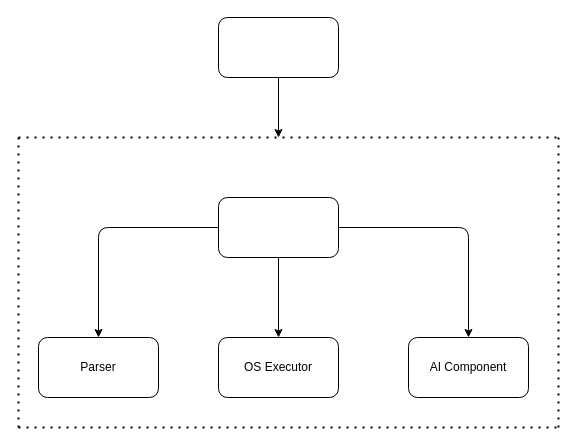
Image size: 577x447. Some labels were removed from this diagram. Here are the shapes that lost their labels. From the top down, the centre of each, then its label:
At (x=278, y=47): "Signal Handler".
At (x=278, y=227): "Shell".
